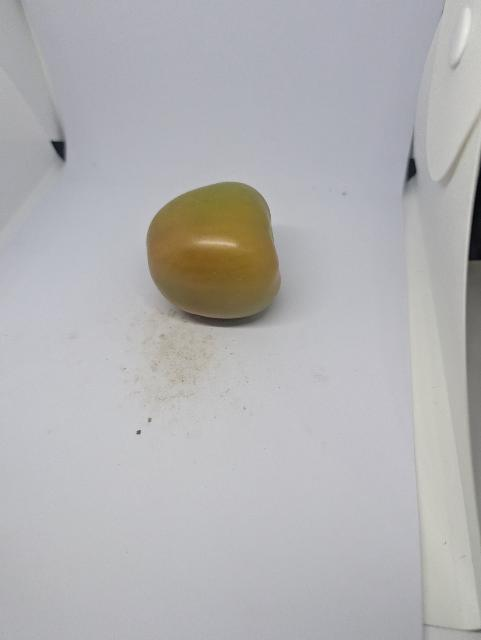breaker: (147, 182, 281, 318)
